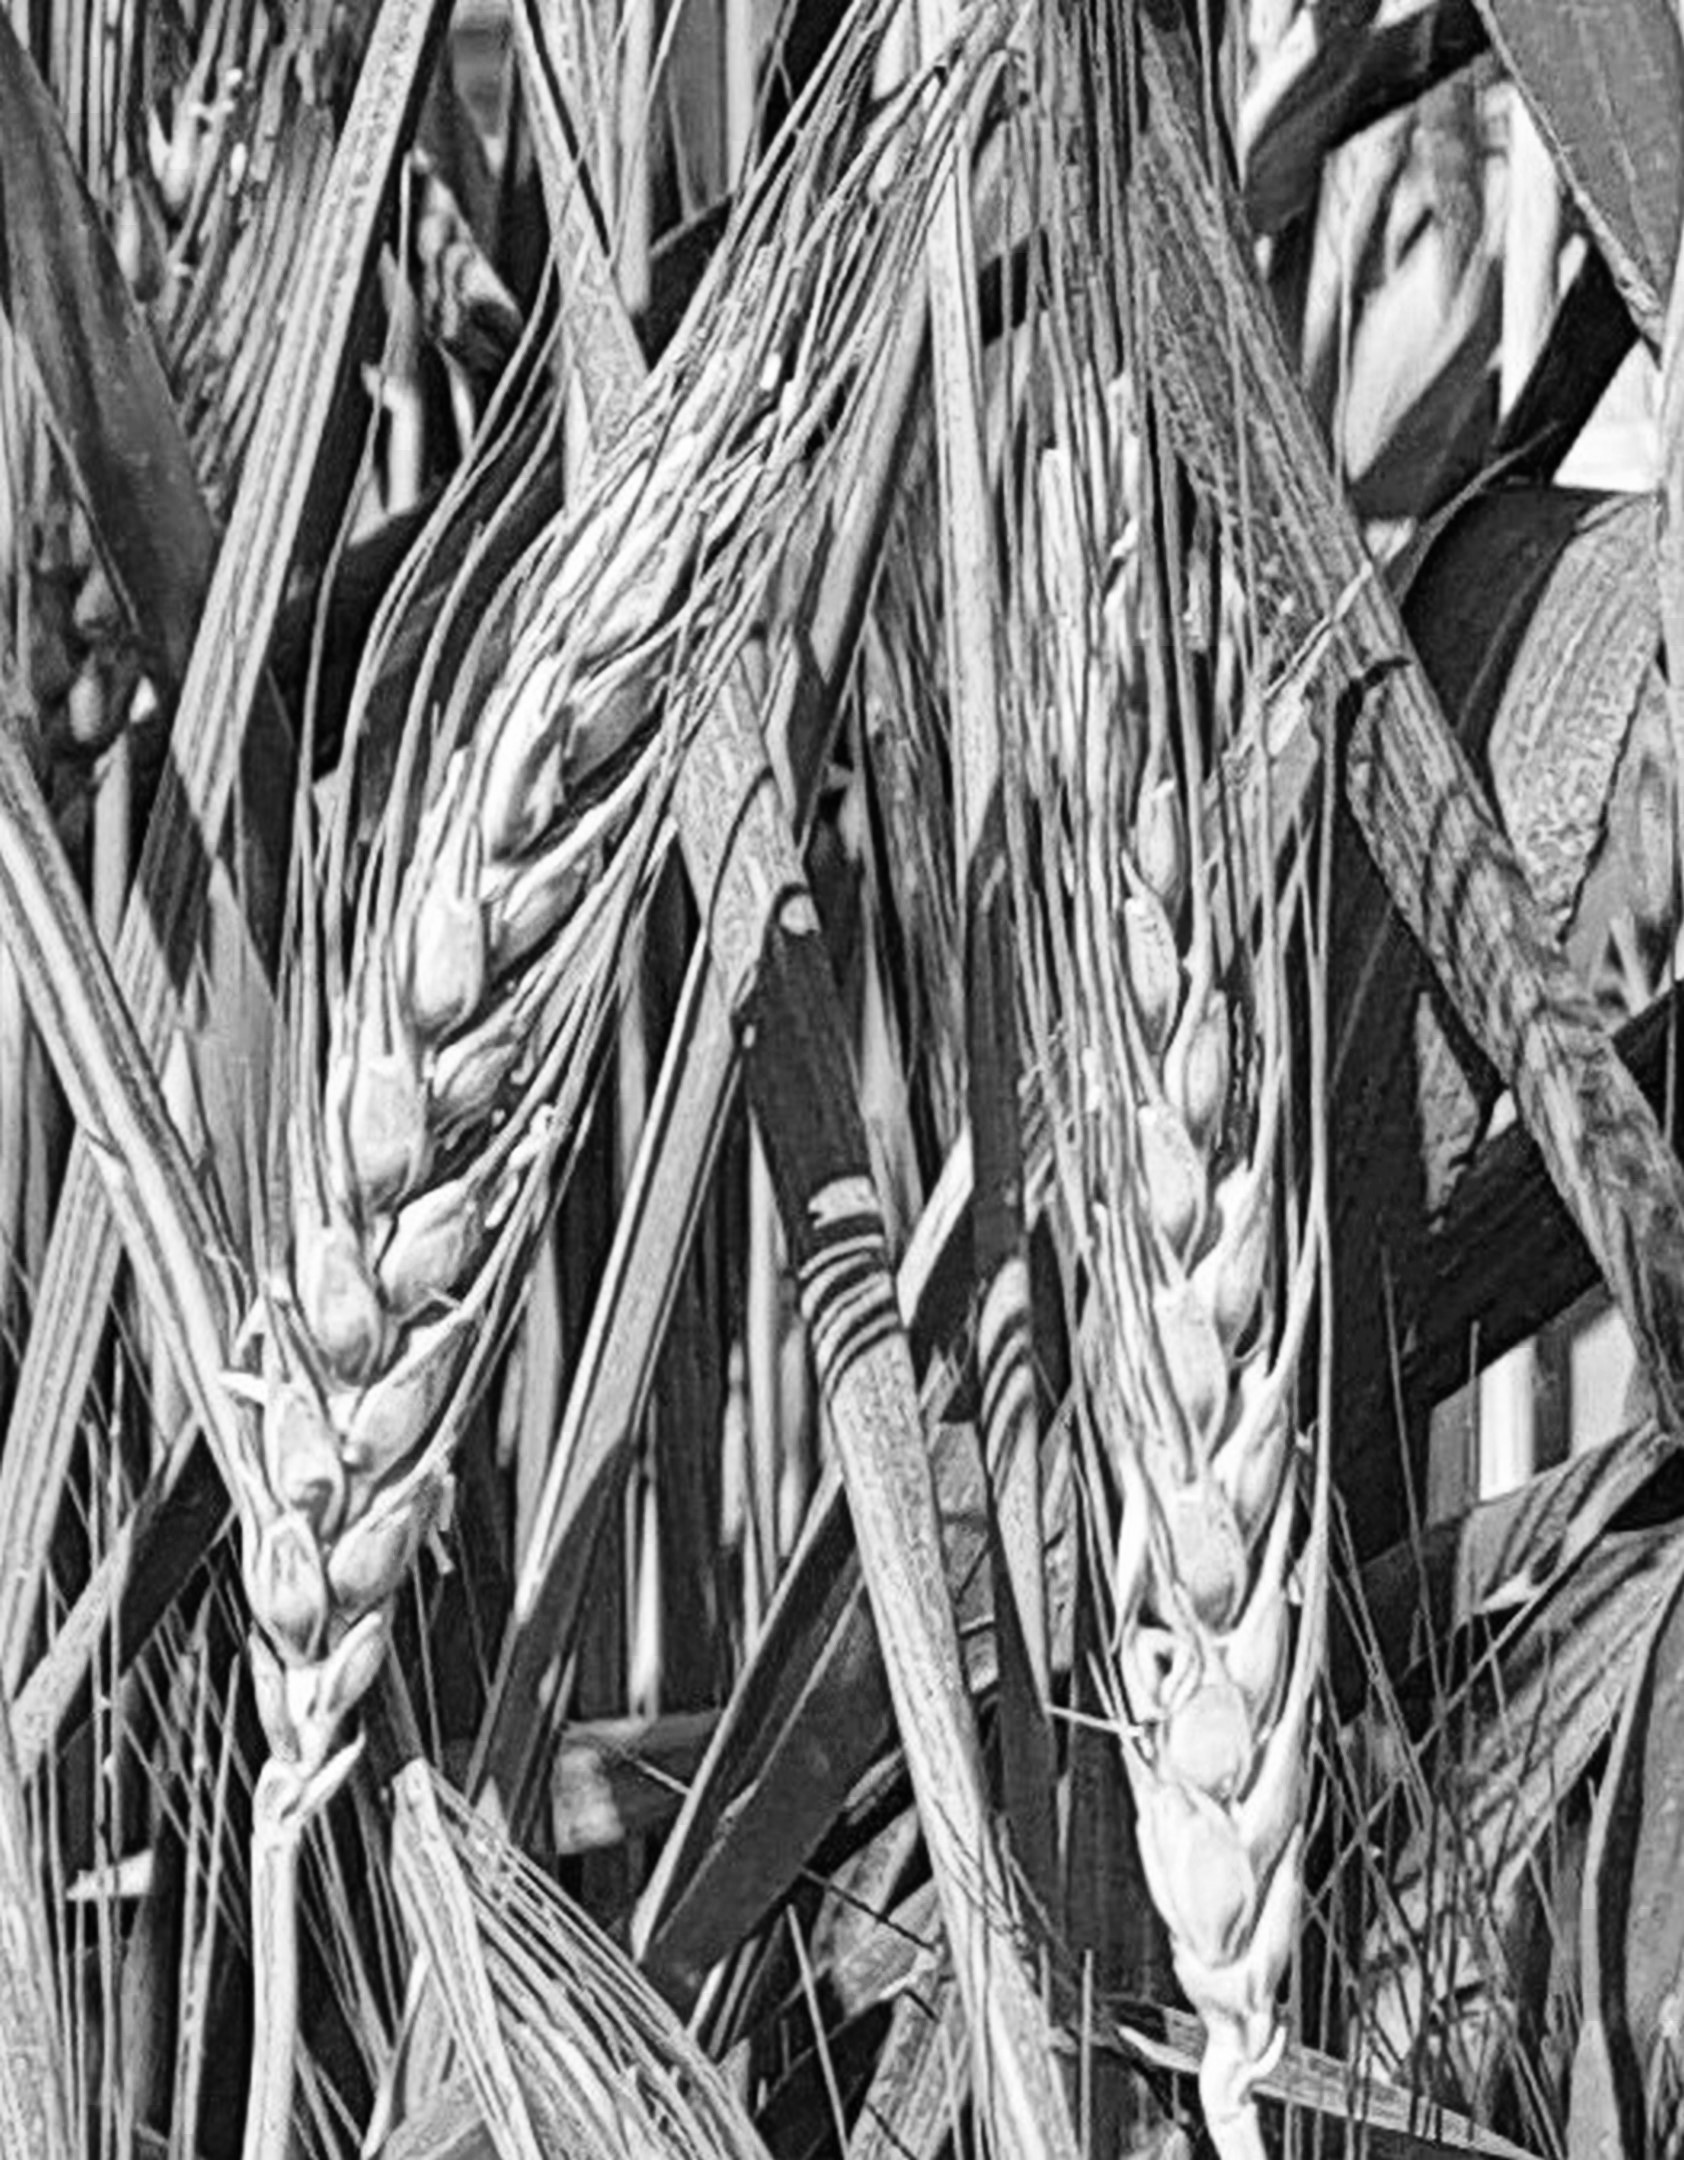Healthy Wheat: (235, 303, 843, 1701), (1027, 754, 1432, 1993)
